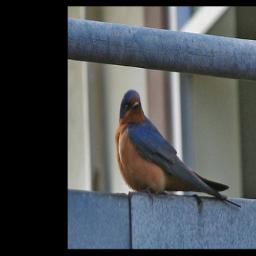Swallow: (115, 89, 242, 209)
